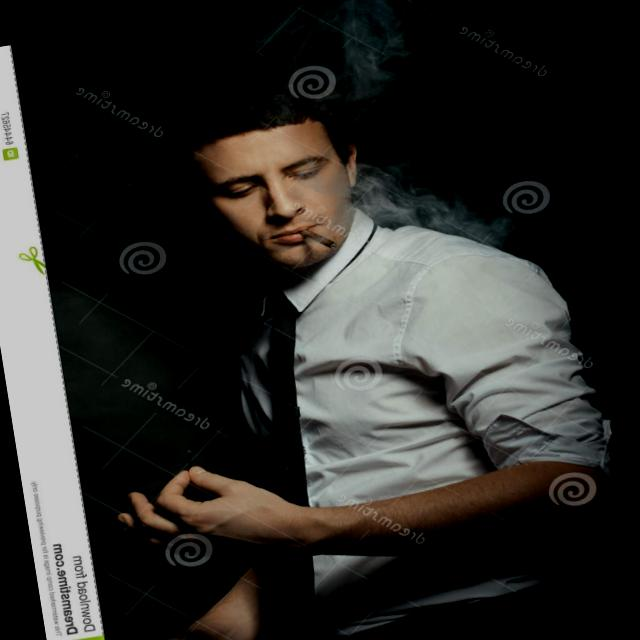smoke: (302, 211, 371, 261)
